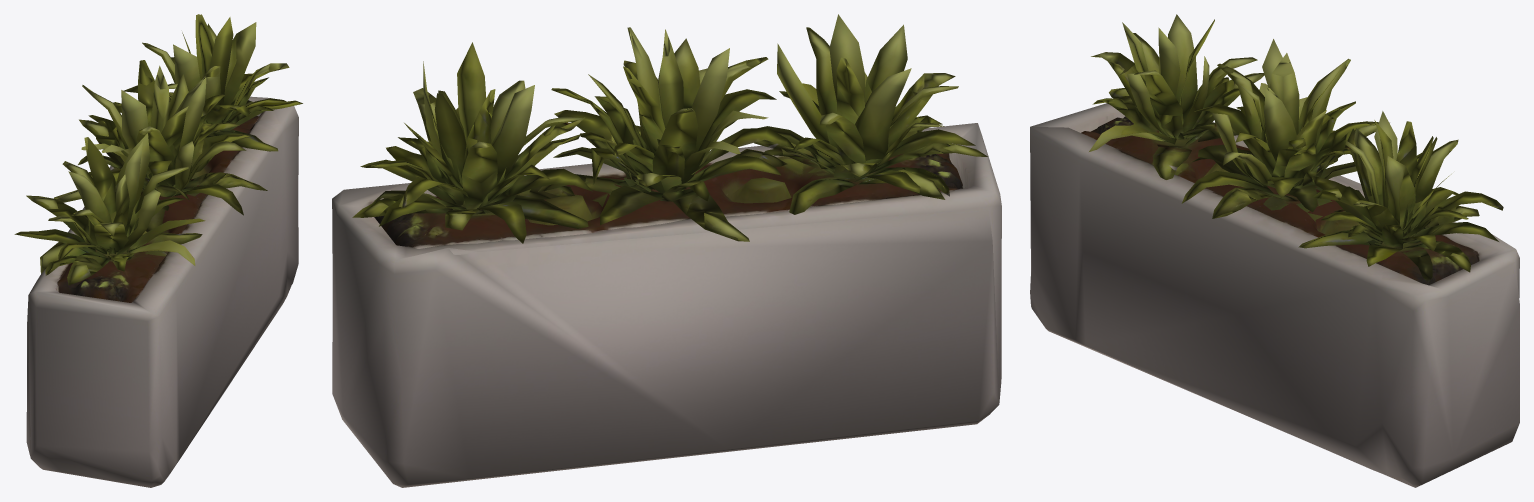
Rendered from planter-box.glb.
3 renders of one model, left to right at view 1: azimuth 30°, elevation 25°; view 2: azimuth 150°, elevation 25°; view 3: azimuth 270°, elevation 25°, orthographic. The views are drawn at different scales.
Parts seen in each view (by area): view 1: tripo_node_kodyurd-model-76____________________; view 2: tripo_node_kodyurd-model-76____________________; view 3: tripo_node_kodyurd-model-76____________________.
Part boxes in pixels (x1=…): tripo_node_kodyurd-model-76____________________: x1=14, y1=14, x2=302, y2=487; tripo_node_kodyurd-model-76____________________: x1=332, y1=14, x2=1001, y2=487; tripo_node_kodyurd-model-76____________________: x1=1030, y1=14, x2=1519, y2=487.
Size of the model in its own units: 0.998 by 0.7559 by 0.998.
1 material, 1 textured.
